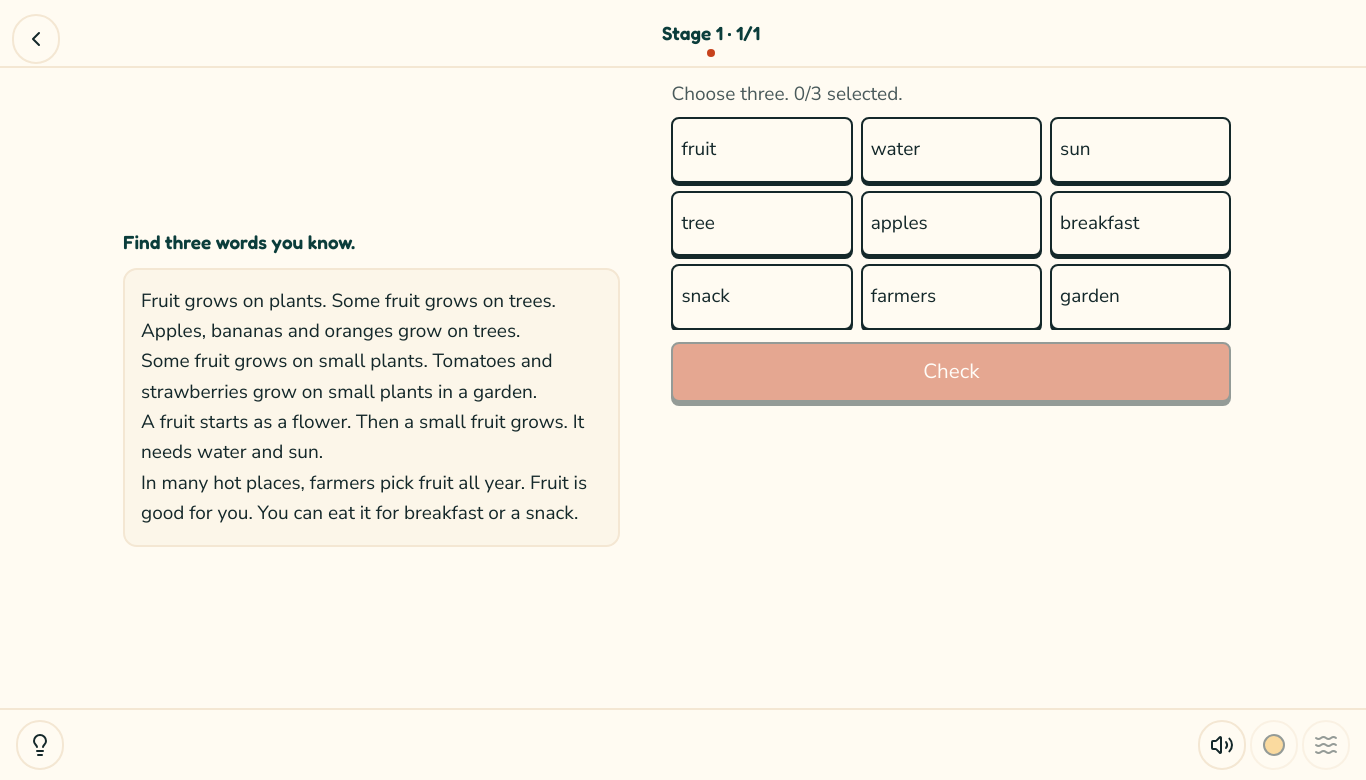
it: answer flow › accepts any three recognised reading answers
The width and height of the screenshot is (1366, 780).
Click the button "snack".
click(762, 297)  # box [671,264,853,330]
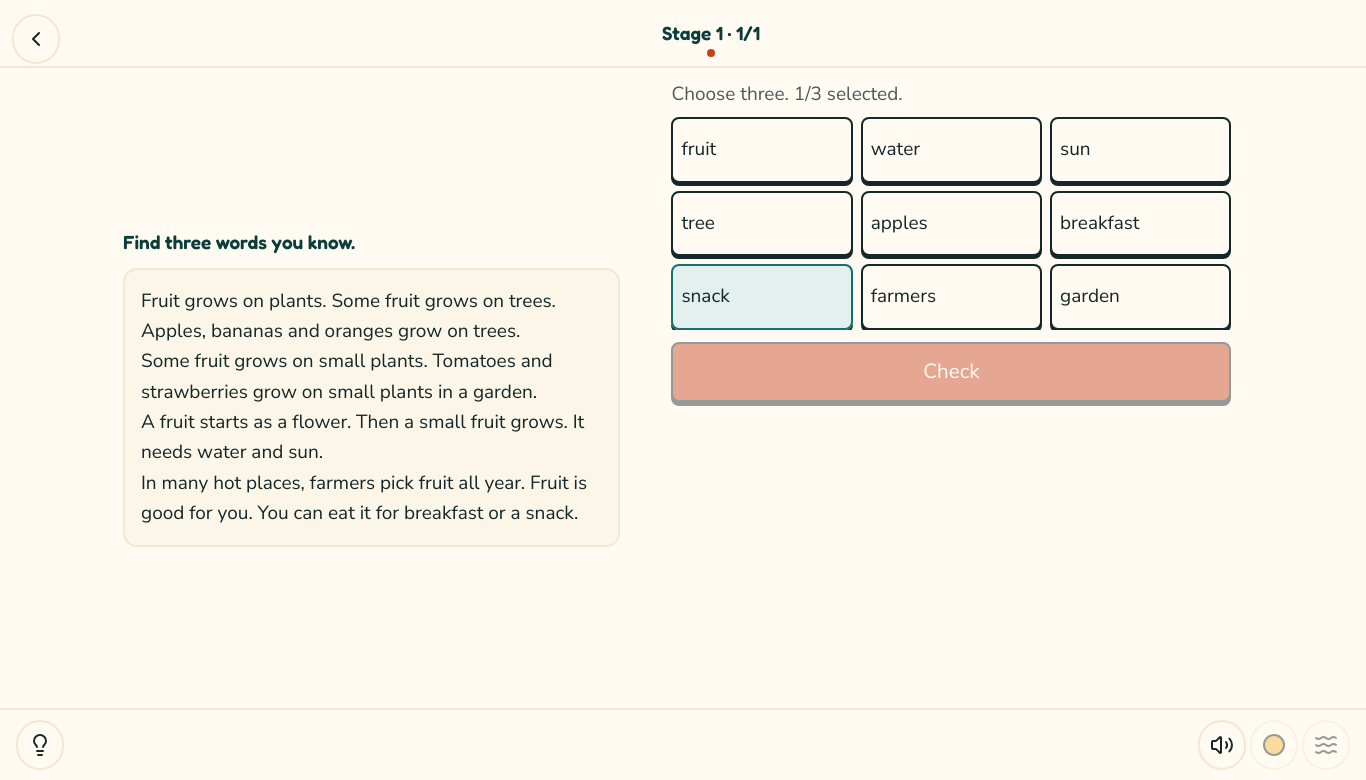
Click the button "breakfast".
click(1141, 224)  # box [1050,191,1231,256]
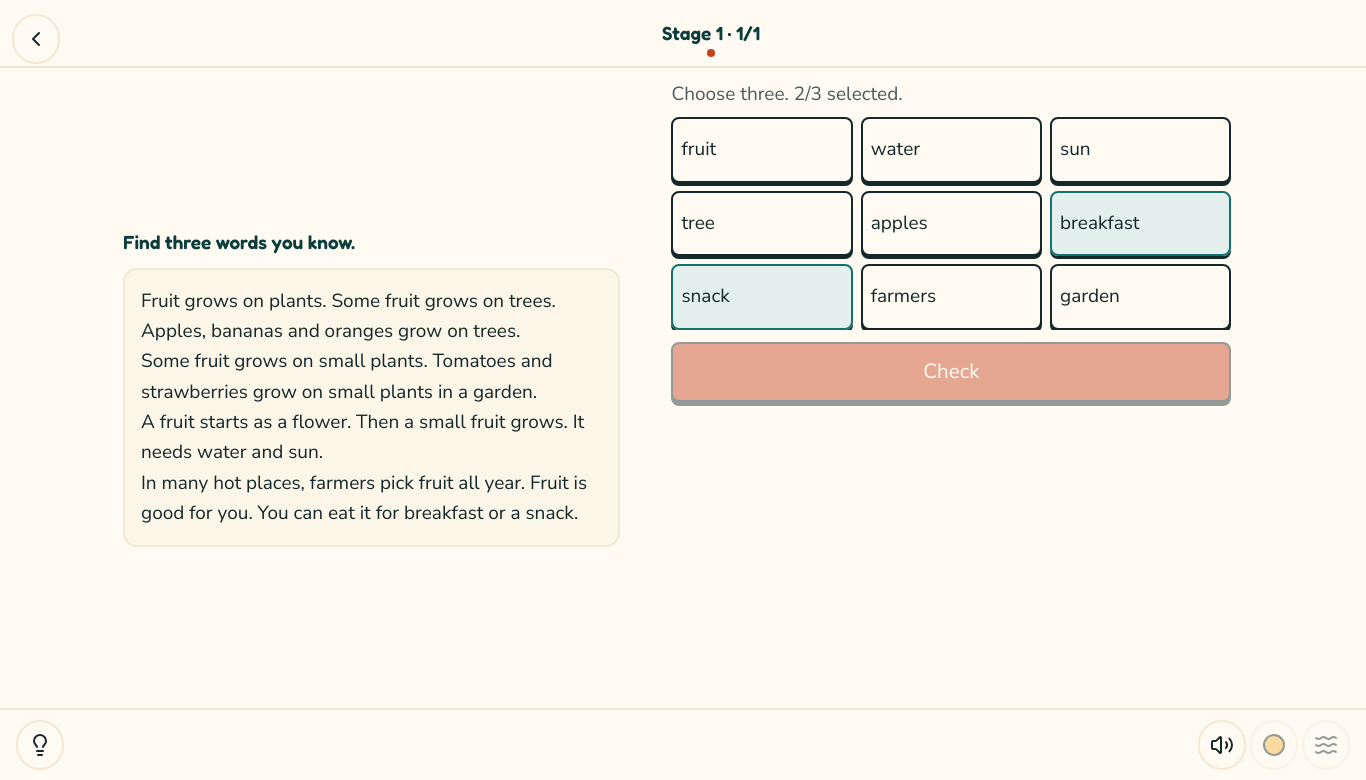
Click the button "fruit".
click(762, 150)  # box [671,117,853,183]
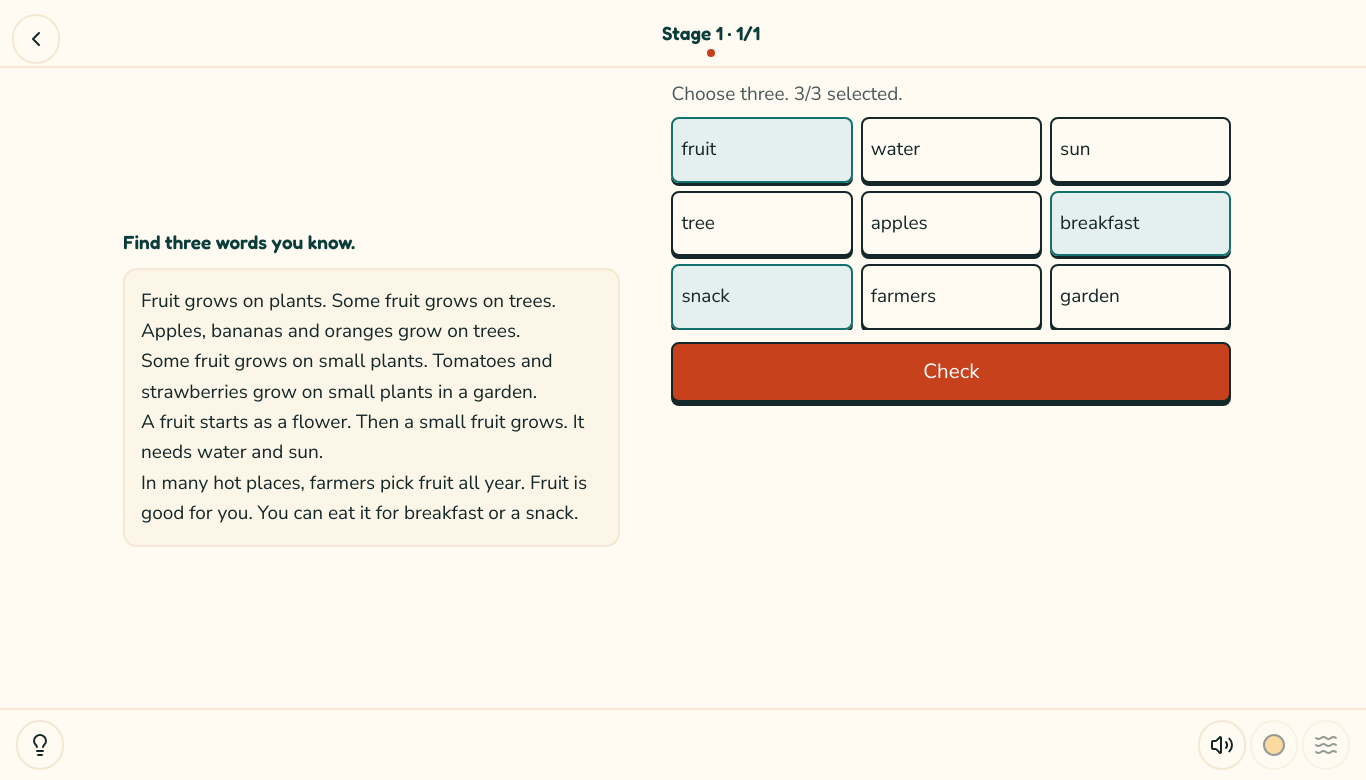
Click the button "Check".
click(951, 372)  # box [671,342,1231,402]
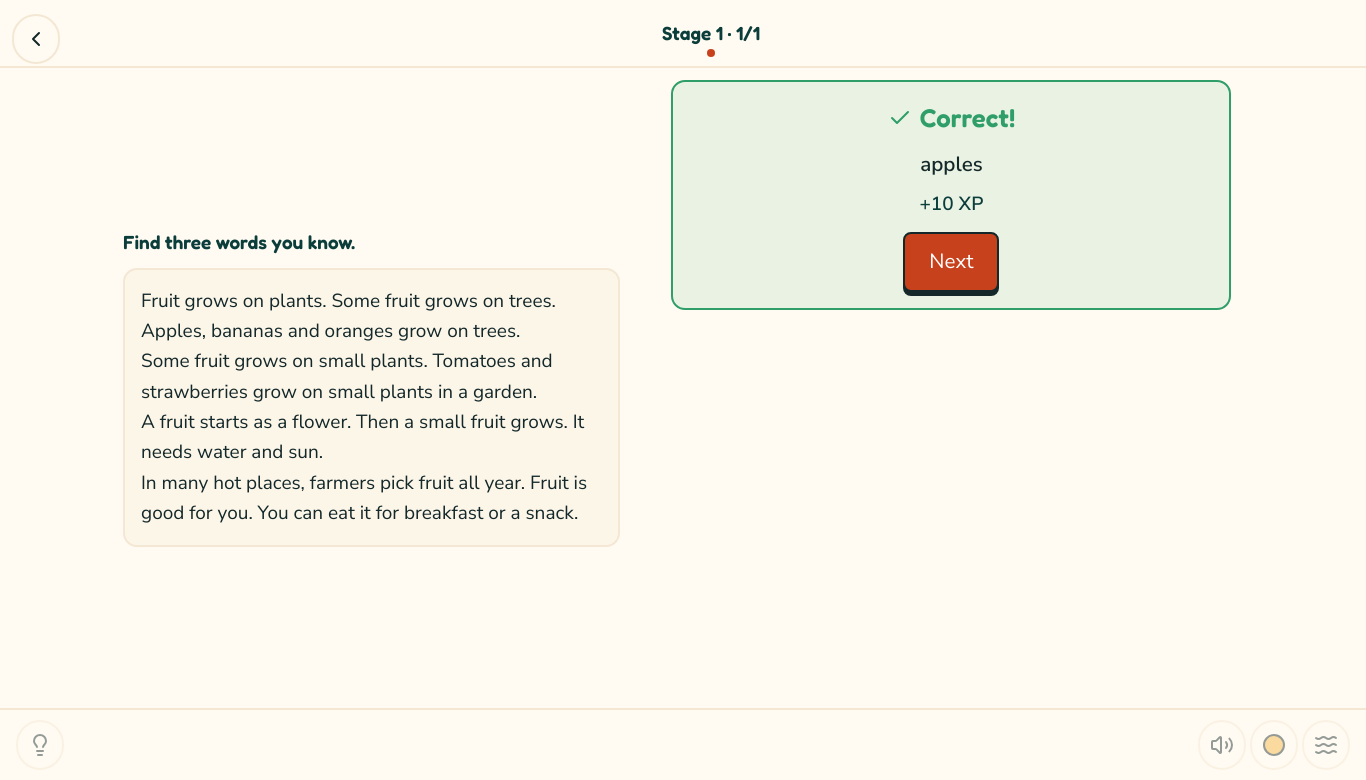
Check: the text "Correct!" is shown, box [888,98,1015,138]
